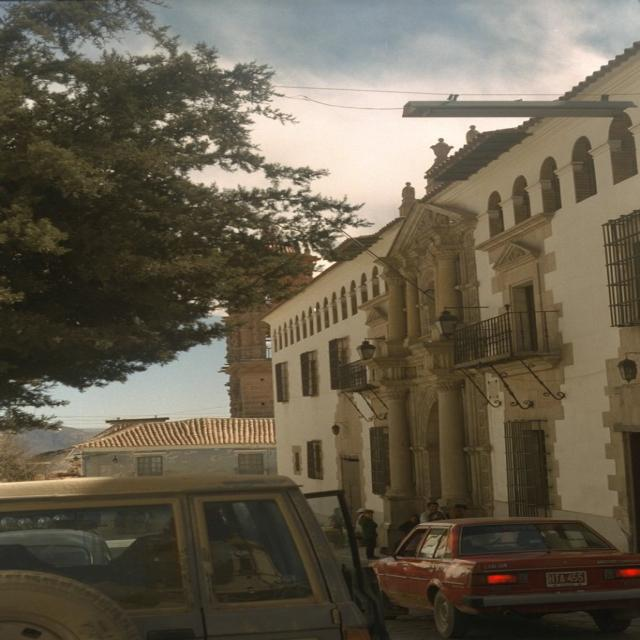car: (354, 517, 633, 632)
